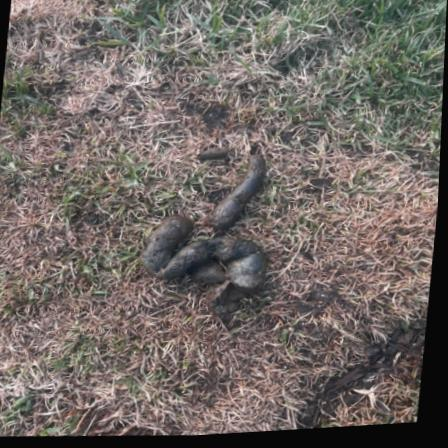dog-poop: (120, 135, 302, 331)
